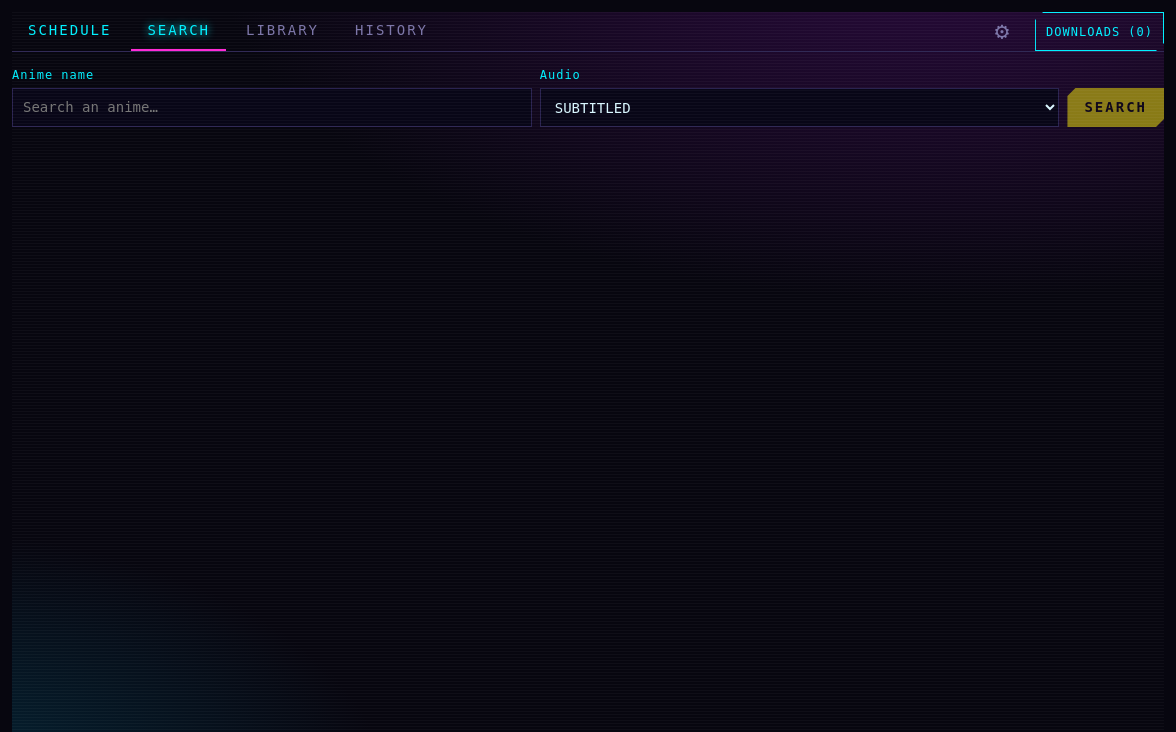
Test: AnimePanel › shows the settings of the anime section, and only them, in place of the search
Step 1. Click the button named "SETTINGS" → [1002, 32], box [981, 12, 1023, 51]
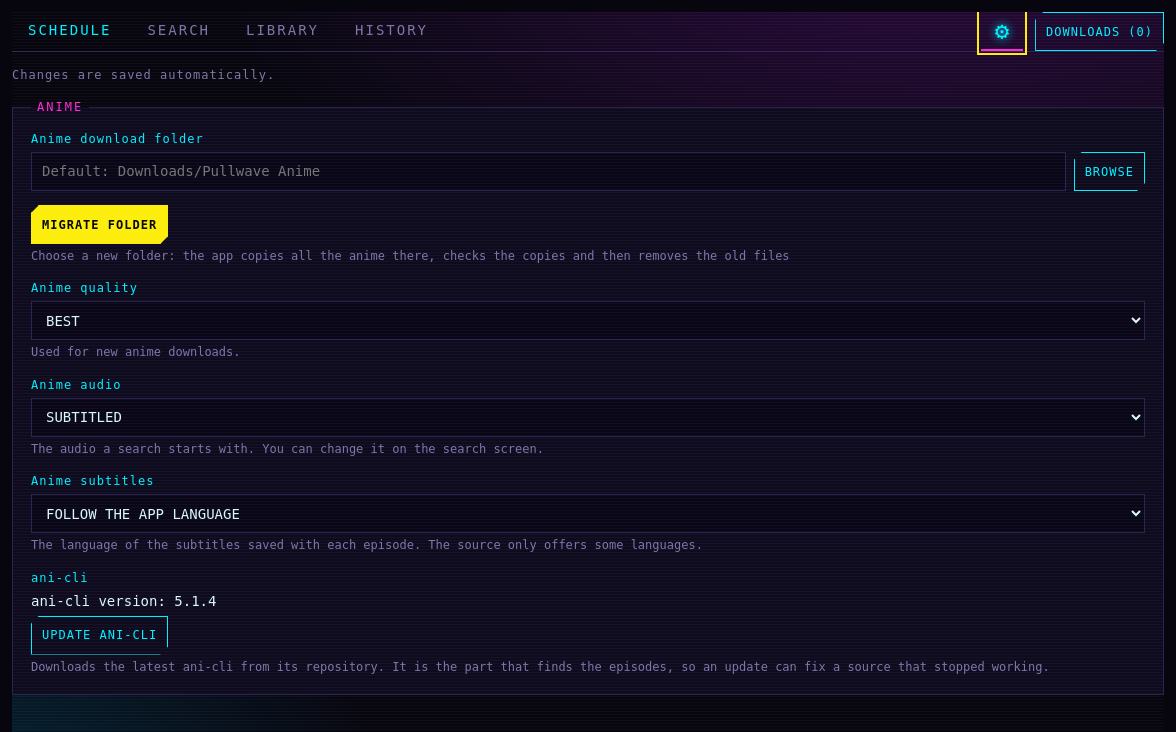
Expected: the element named "Settings" is shown
Expected: the text "ANIME" is shown, [37, 100, 83, 114]
Expected: the field labelled "Anime download folder" is shown, [31, 152, 1066, 191]
